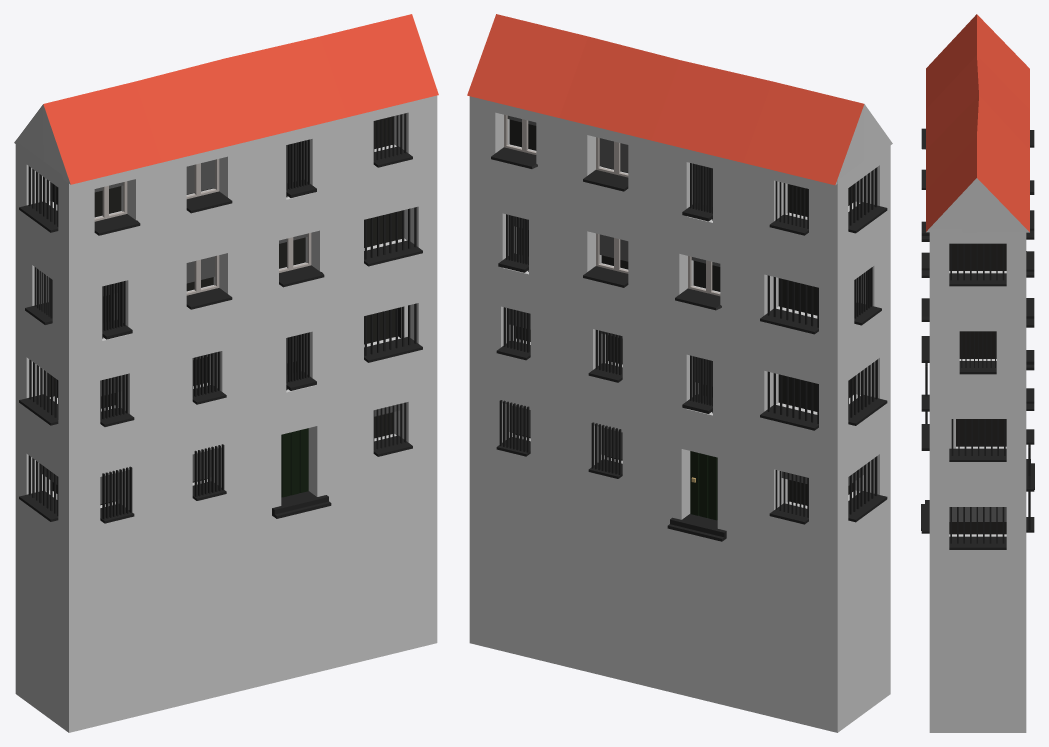
Rendered from casa procedural_relleno_Con sotano_3.fbx.
3 views of the same model, side by side, from view 1: azimuth 30°, elevation 25°; view 2: azimuth 150°, elevation 25°; view 3: azimuth 270°, elevation 25° (orthographic). The views are drawn at different scales.
Parts seen in each view (by area): view 1: Procedural_Building_straight.001; view 2: Procedural_Building_straight.001; view 3: Procedural_Building_straight.001.
Part boxes in pixels (box(x1,y1,x2,y2)): Procedural_Building_straight.001: box(14, 14, 438, 732); Procedural_Building_straight.001: box(467, 14, 892, 732); Procedural_Building_straight.001: box(921, 14, 1034, 732).
Size of the model in its own units: 416 by 633 by 118.
